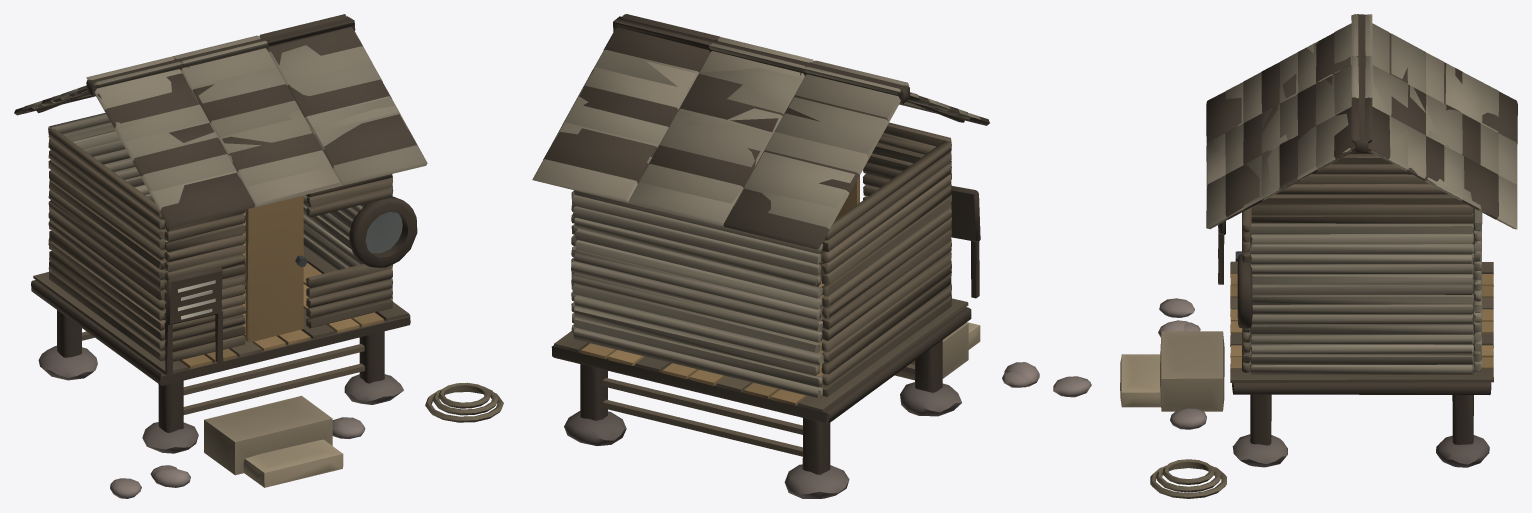
The model's file is lookout_hut_a_lod1.glb.
The picture shows the model from 3 angles, left to right: view 1: azimuth 30°, elevation 25°; view 2: azimuth 150°, elevation 25°; view 3: azimuth 270°, elevation 25°; orthographic projection. The views are drawn at different scales.
Parts seen in each view (by area): view 1: Surface.001; view 2: Surface.001; view 3: Surface.001.
Part boxes in pixels (x1=…): Surface.001: x1=14, y1=14, x2=503, y2=498; Surface.001: x1=532, y1=14, x2=1091, y2=498; Surface.001: x1=1120, y1=14, x2=1517, y2=498.
Bounding box in the file's own units: 6.25 × 5.18 × 5.51.
